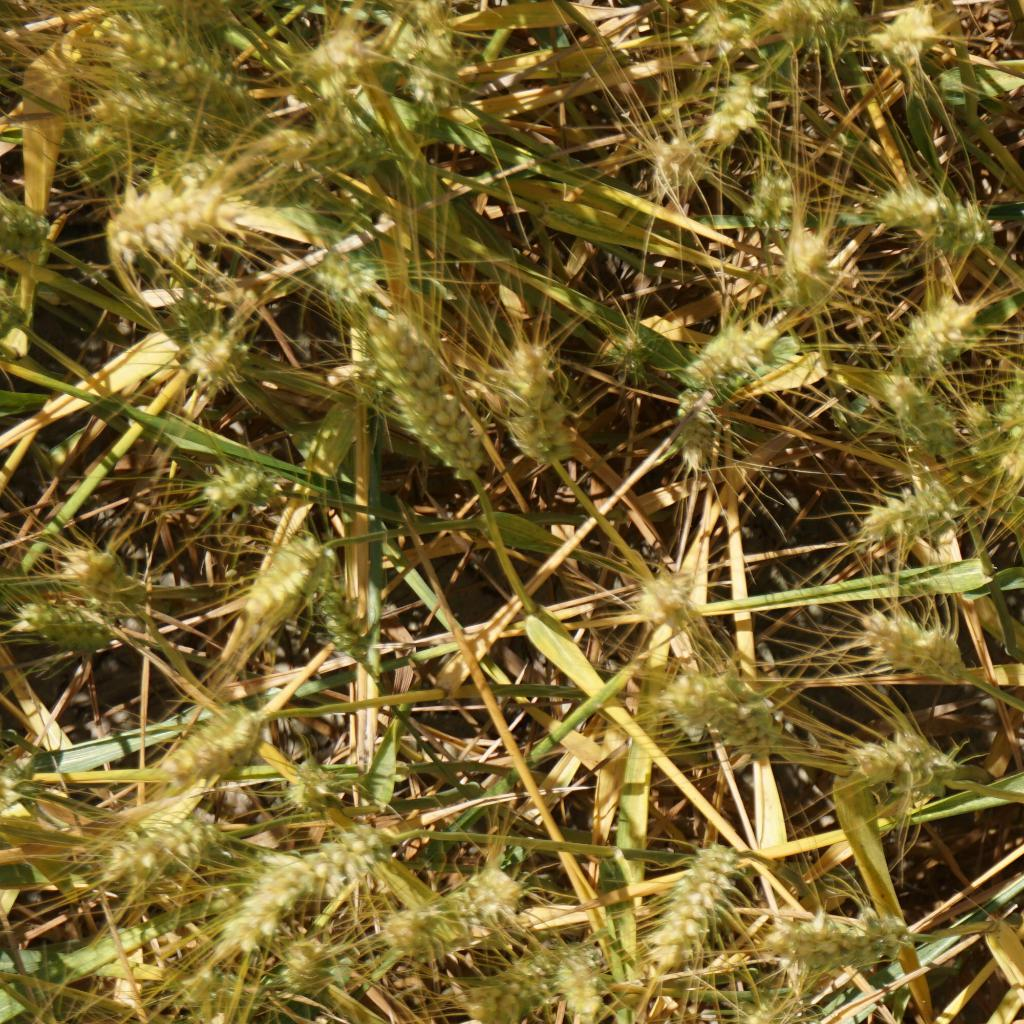0-0: (373, 314, 481, 497), (219, 529, 353, 626), (842, 594, 978, 689), (93, 6, 245, 86), (391, 14, 489, 134), (204, 843, 311, 947), (636, 838, 734, 950), (761, 910, 923, 977), (297, 811, 433, 889), (835, 722, 962, 804), (492, 332, 572, 462), (100, 819, 218, 903), (248, 114, 384, 186), (96, 79, 228, 153), (659, 670, 781, 750), (754, 231, 861, 322), (12, 579, 129, 660), (86, 189, 243, 249), (867, 183, 989, 254), (870, 0, 965, 91), (683, 322, 778, 411), (307, 585, 403, 673), (138, 709, 257, 774), (859, 462, 951, 540), (892, 376, 968, 470), (630, 555, 710, 640), (58, 529, 140, 602), (268, 932, 352, 1003), (293, 245, 389, 307), (169, 322, 256, 390), (376, 891, 459, 962), (905, 296, 983, 370), (694, 76, 778, 142), (550, 945, 620, 1024), (438, 865, 515, 933), (305, 25, 377, 93), (754, 1, 841, 57), (0, 190, 61, 265), (478, 944, 531, 1024), (638, 132, 712, 188), (670, 382, 719, 466), (166, 960, 243, 1013), (206, 465, 273, 521), (745, 166, 798, 230), (611, 311, 656, 385), (689, 6, 768, 48), (273, 757, 334, 808)
